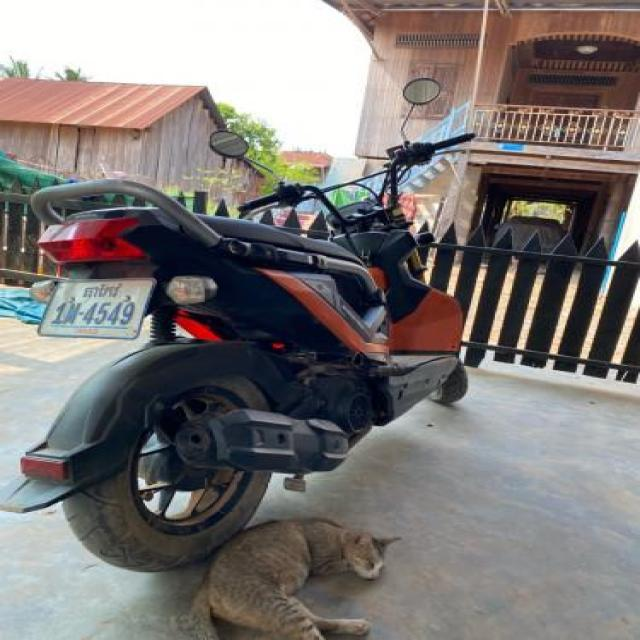Takeo: (82, 283, 122, 298)
